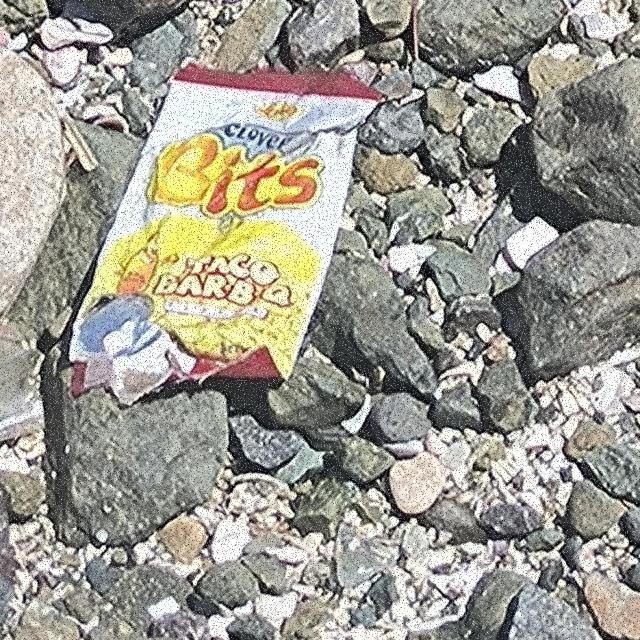plastic_waste: (67, 65, 385, 406)
